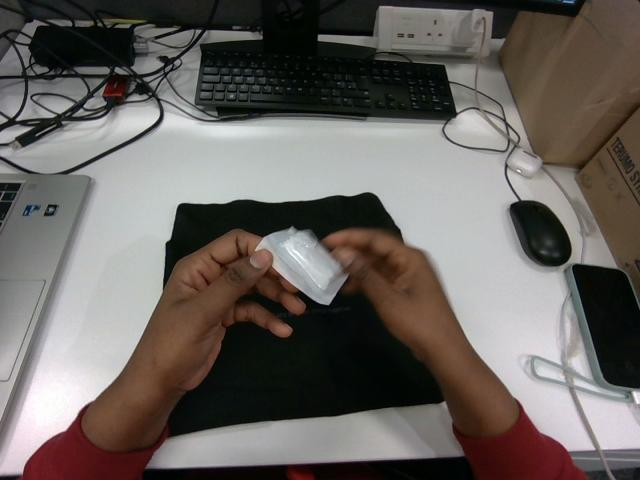gauze: (256, 227, 347, 304)
